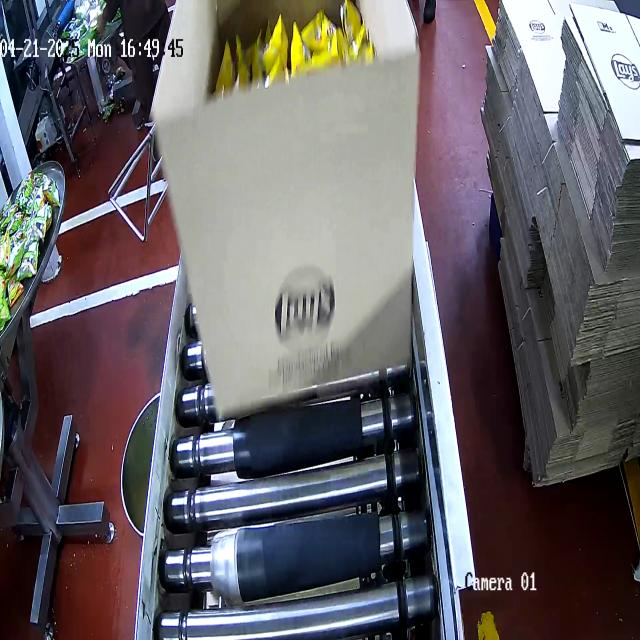SALTED: (208, 2, 373, 95)
